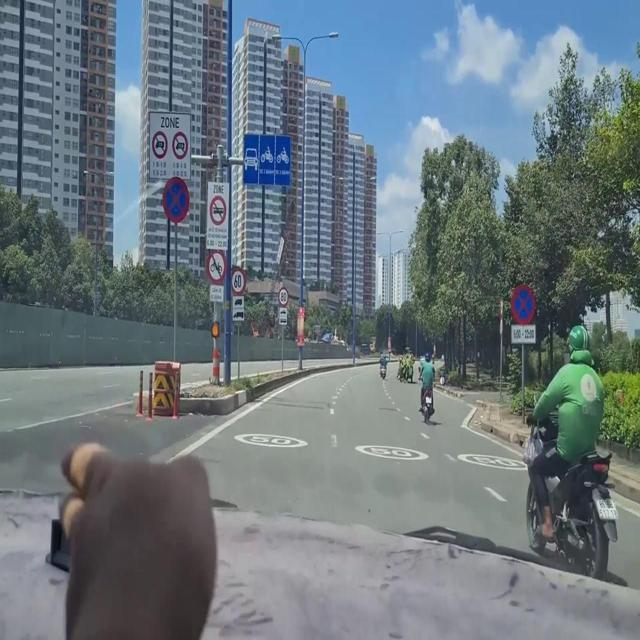Biển phụ: (508, 320, 536, 345), (230, 291, 243, 325), (209, 281, 224, 304), (278, 306, 288, 327)
Cấm các phương tiện hoạt động trong khung giờ cố định: (147, 105, 192, 180), (205, 181, 230, 253)
Cấm dừng - Cấm đỗ: (161, 168, 191, 227), (510, 270, 540, 324)
Cấm xe máy: (206, 247, 226, 283)
Giới hạn tốc độ 60Km/h: (228, 264, 249, 293)
Giới hạn tốc độ 80Km/h: (276, 281, 289, 307)
Làn đường cho từng xe: (238, 120, 296, 189)
